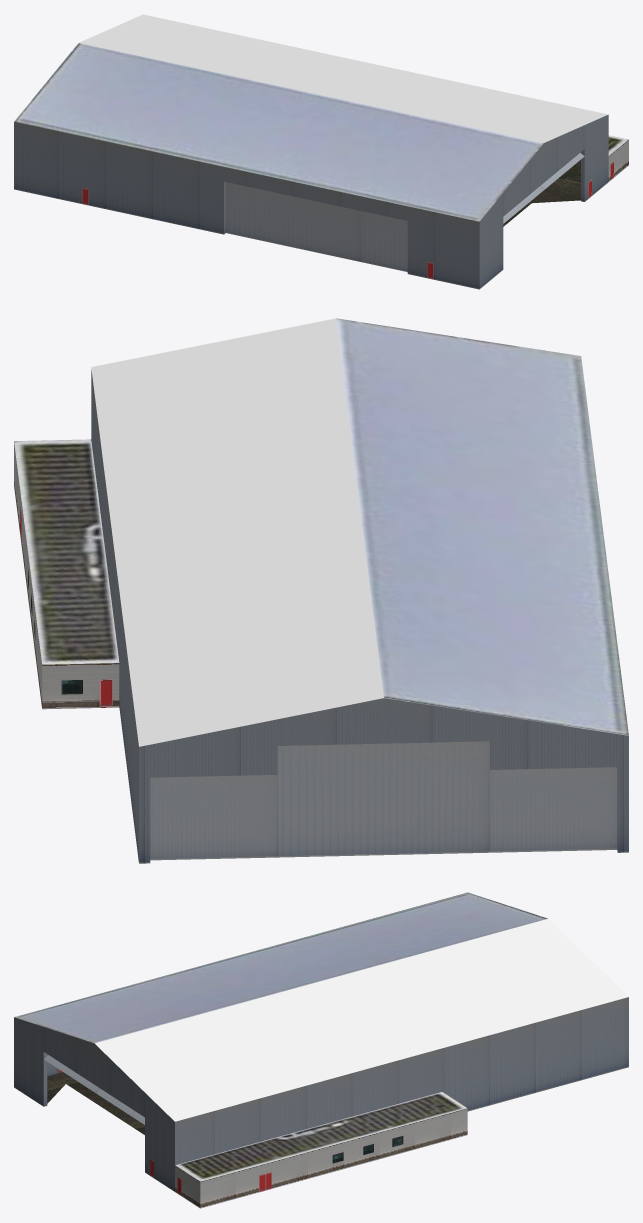
Rendered from Hangar.fbx.
3 renders of one model, top to bottom at view 1: azimuth 30°, elevation 25°; view 2: azimuth 150°, elevation 25°; view 3: azimuth 270°, elevation 25°, orthographic. The views are drawn at different scales.
Visible parts, largest first — view 1: Model; view 2: Model; view 3: Model.
Part boxes in pixels (left/top/right/bottom): Model: left=14, top=14, right=628, bottom=289; Model: left=14, top=318, right=628, bottom=863; Model: left=14, top=892, right=628, bottom=1208.
Bounding box in the file's own units: 68.16 × 12.45 × 72.05.
